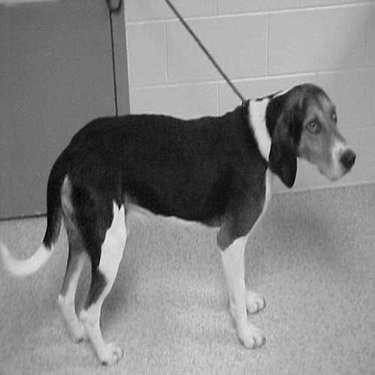dog: (3, 78, 355, 363)
